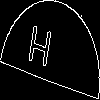H: (25, 24, 53, 77)
